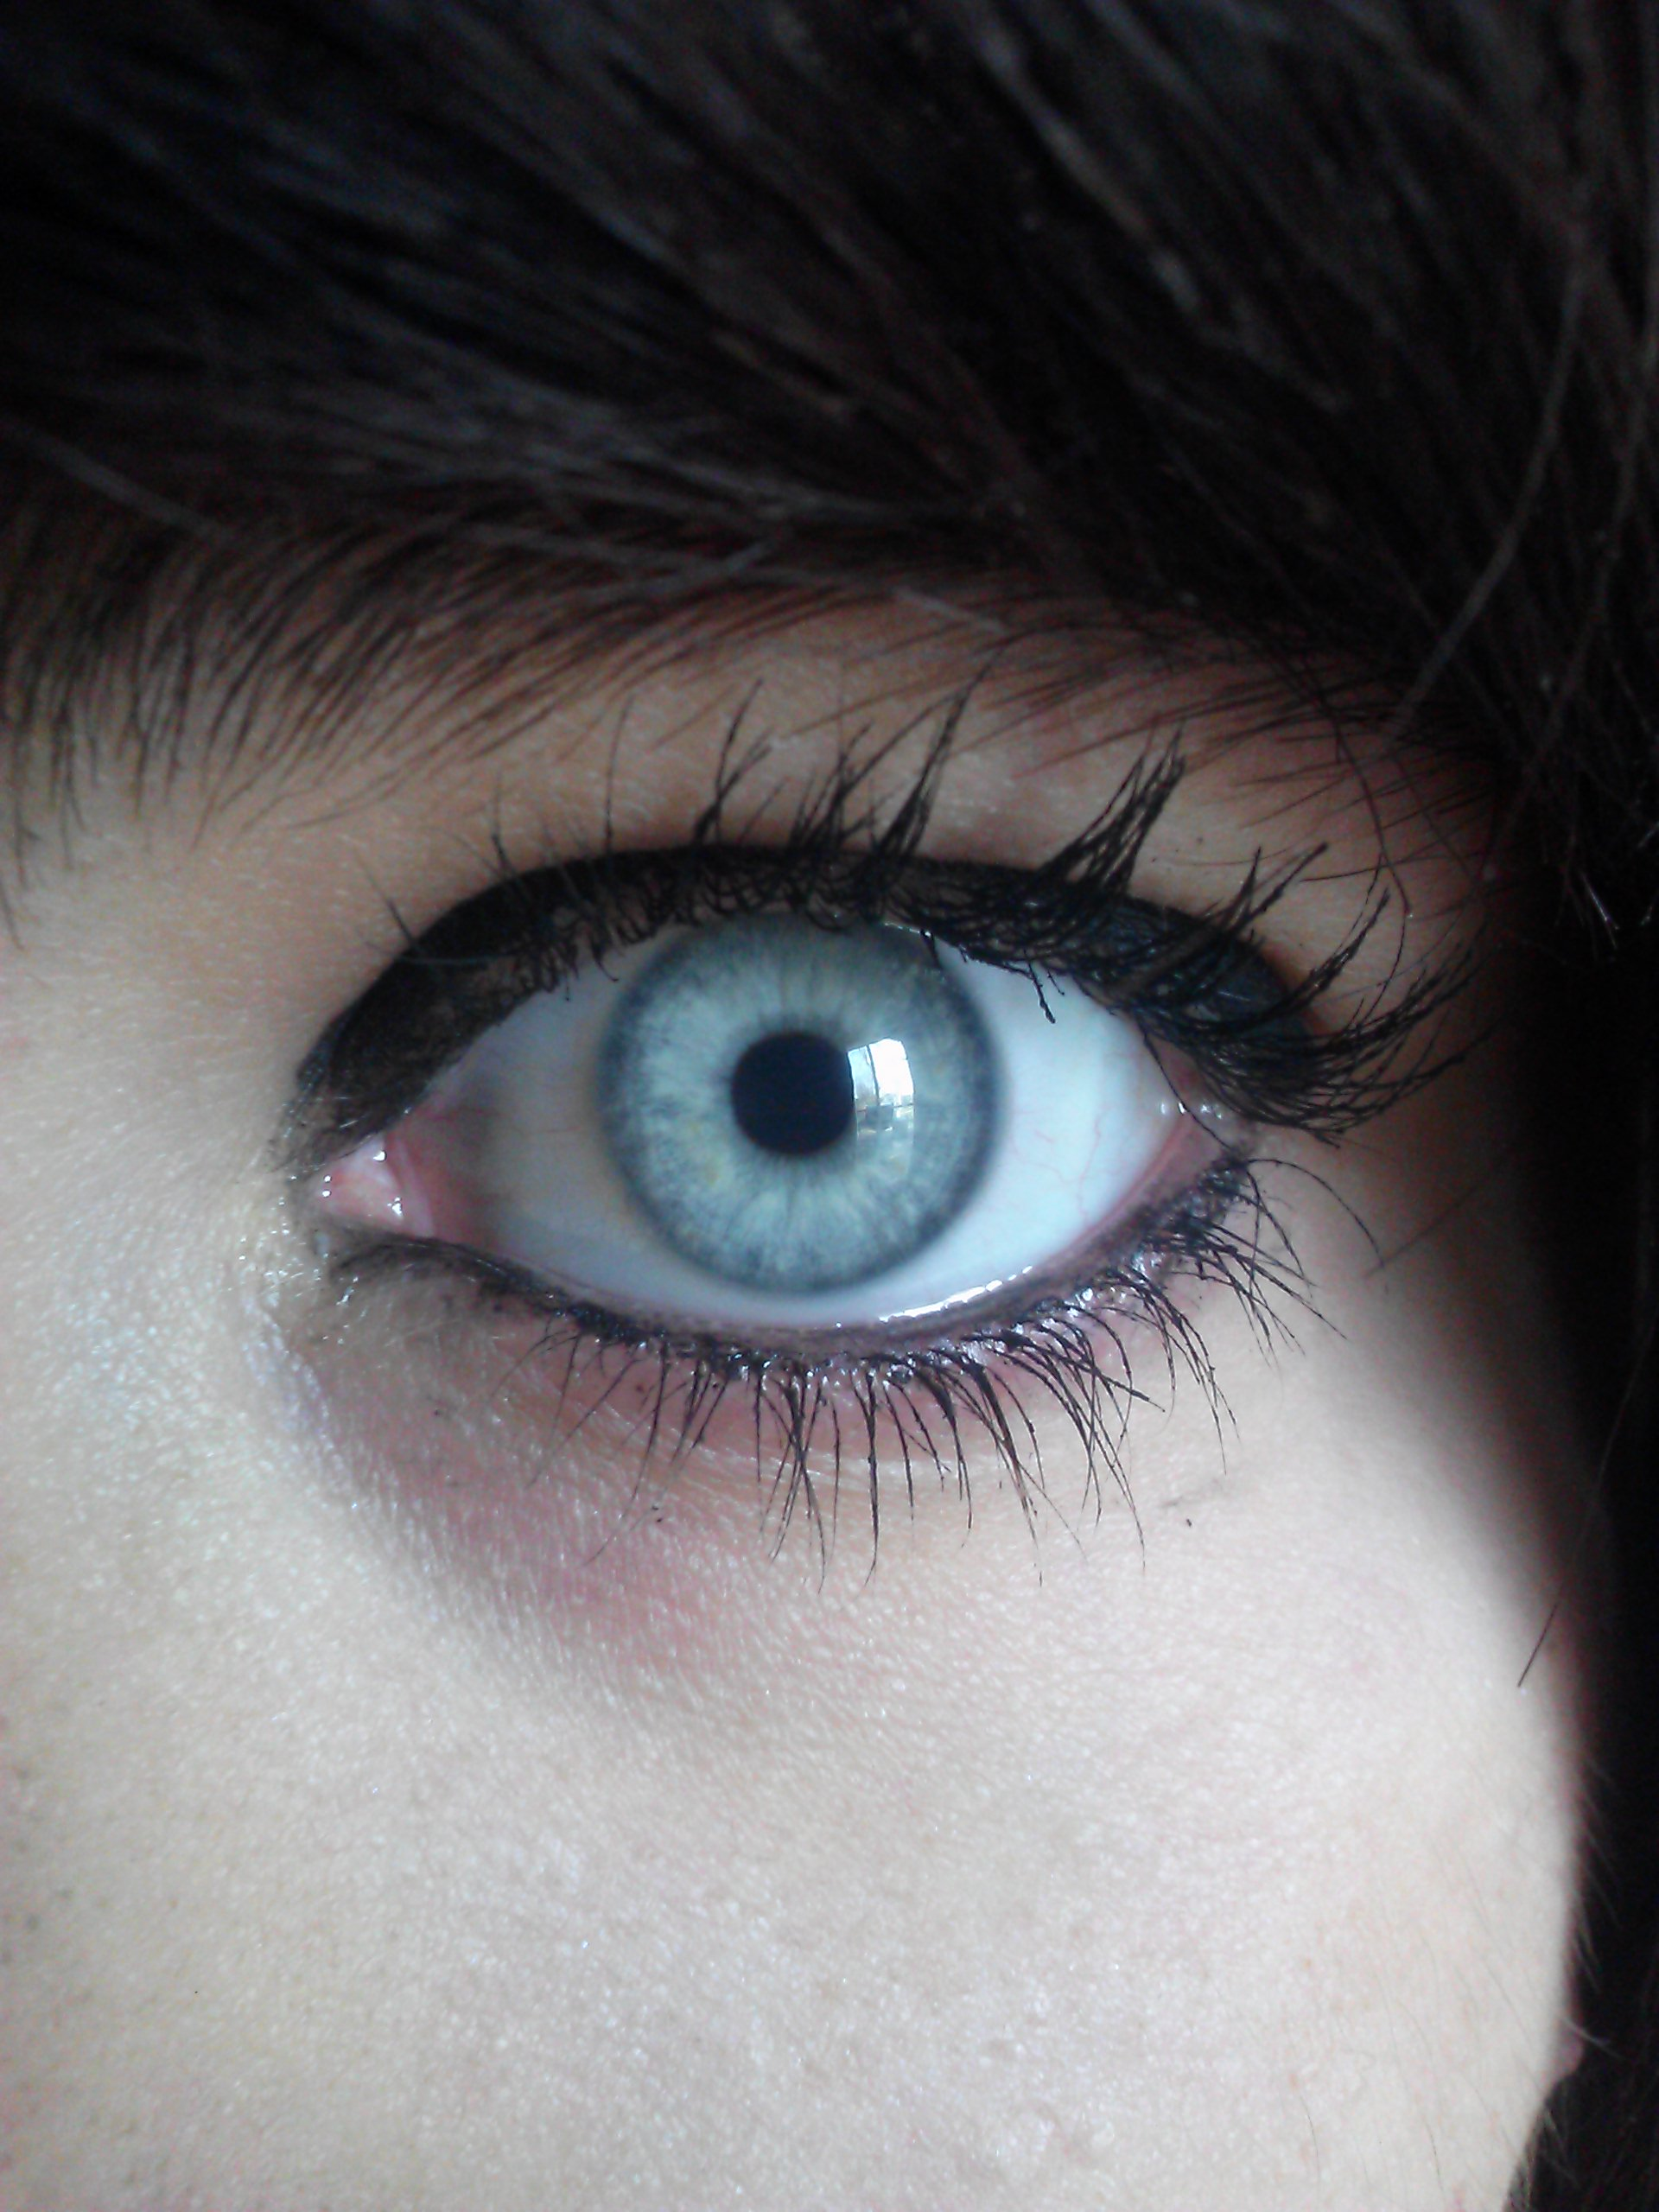iris: (597, 894, 993, 1287)
pupil: (727, 1028, 856, 1157)
